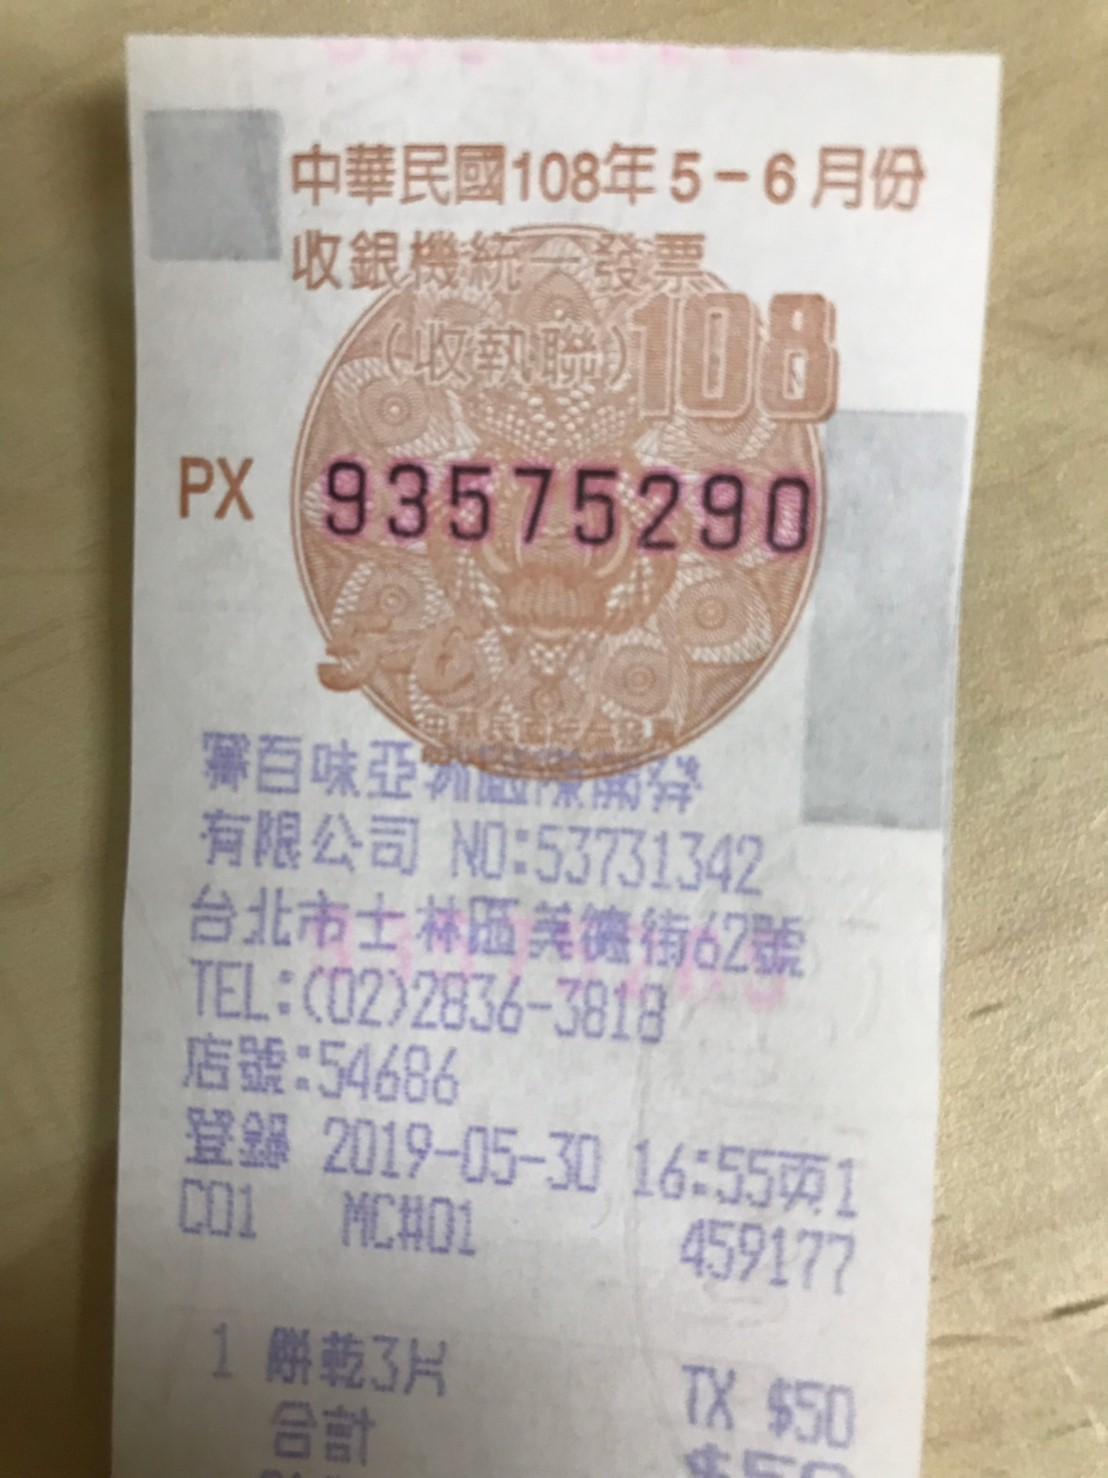Date_Old: (509, 138, 928, 213)
Number_Old: (312, 452, 818, 556)
